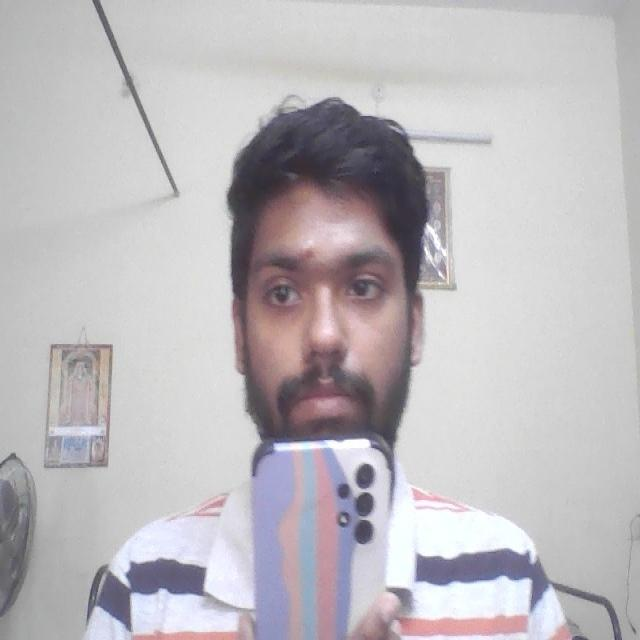Mobile: (242, 430, 400, 640)
